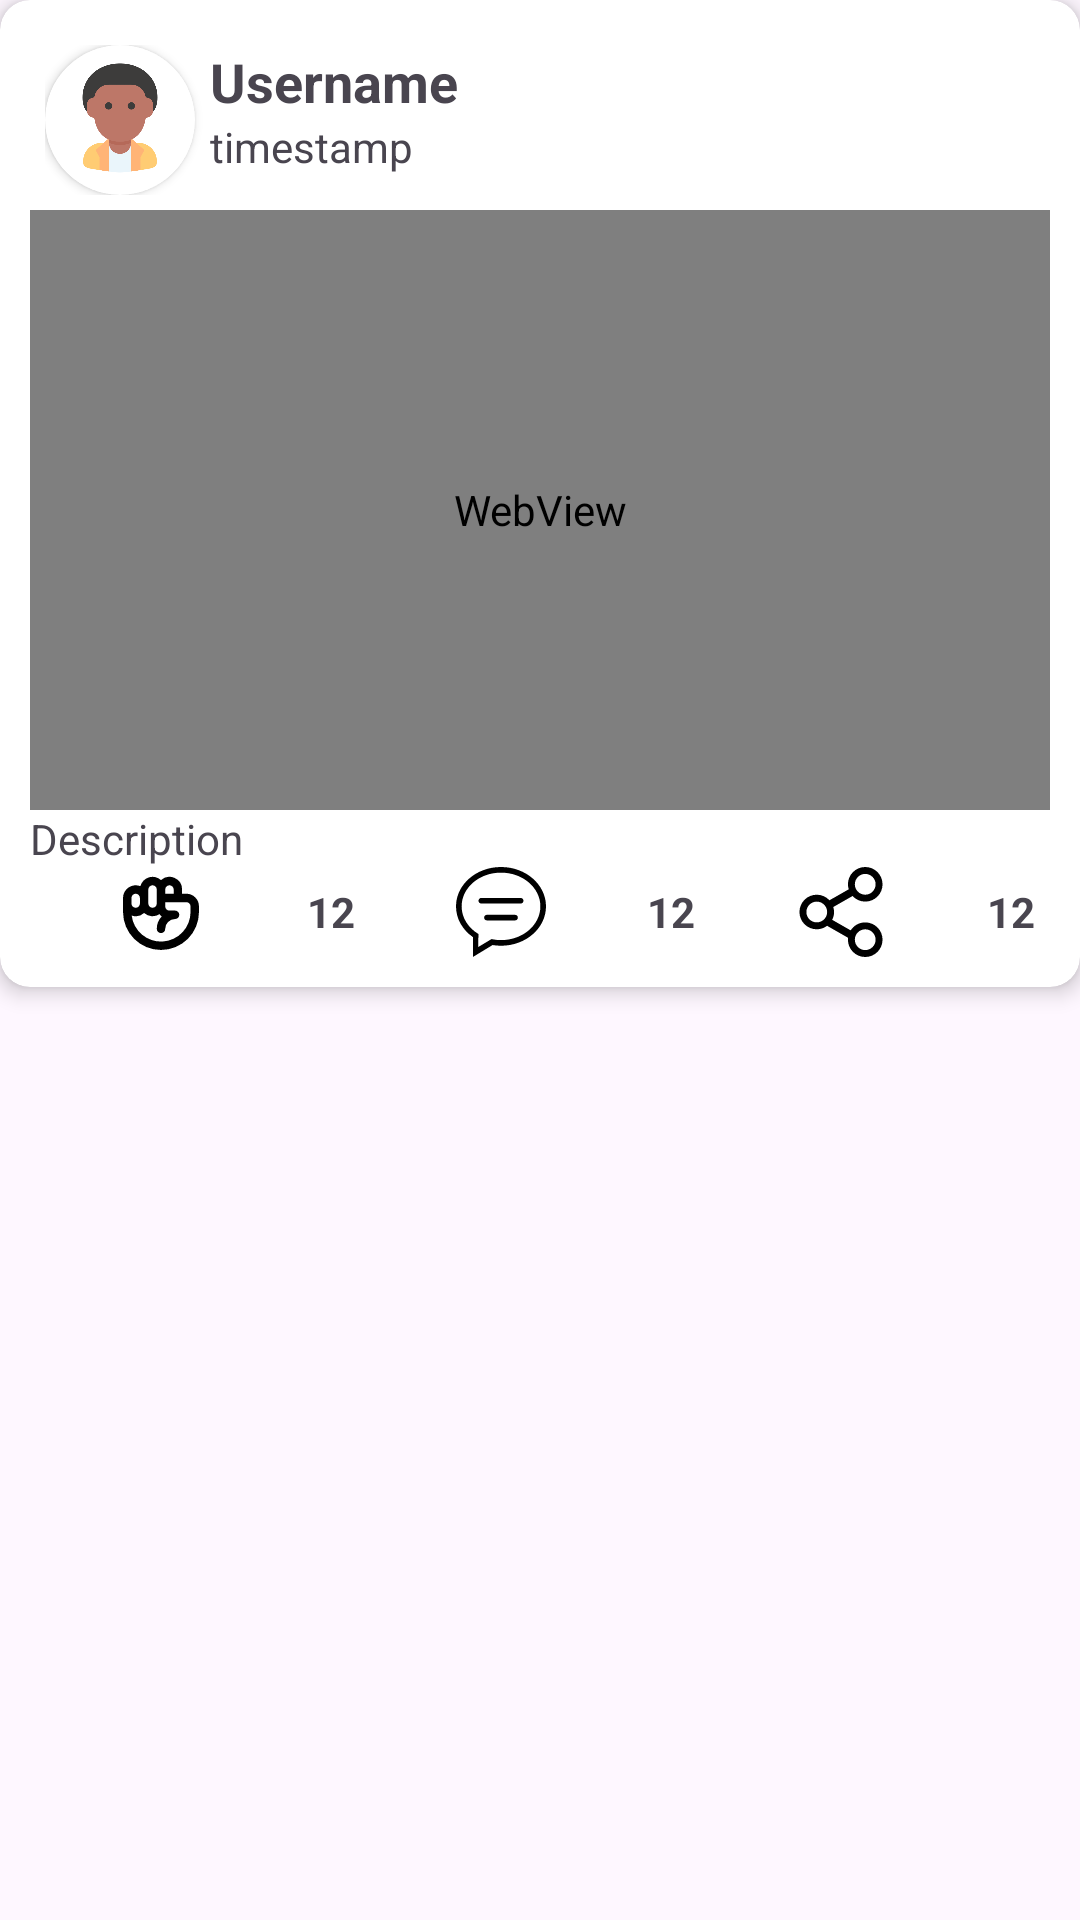

Point at icon controls on the screen. Image size 1080 × 1920, points as [x,y].
Comment: [501,912]
Profile: [101,121]
Share: [841,912]
Support: [161,913]
